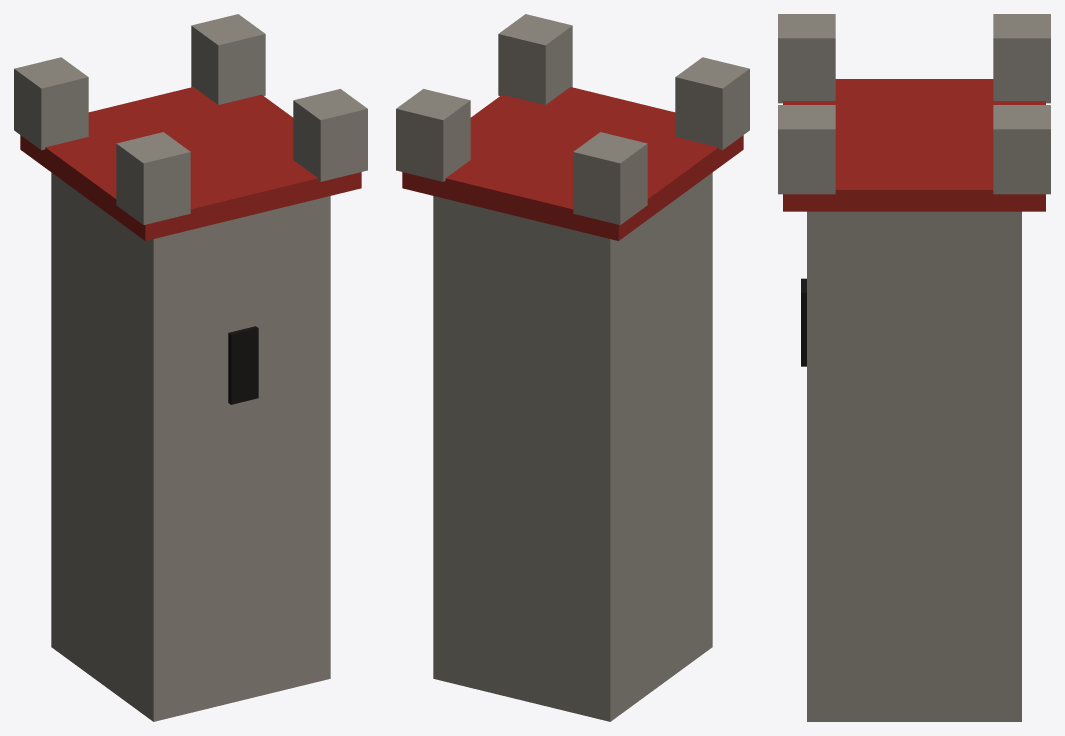
File: dragon_tower.glb
The picture shows the model from 3 angles, left to right: view 1: azimuth 30°, elevation 25°; view 2: azimuth 150°, elevation 25°; view 3: azimuth 270°, elevation 25°; orthographic projection. The views are drawn at different scales.
Visible parts, largest first — view 1: dragon_tower; view 2: dragon_tower; view 3: dragon_tower.
Boxes of the visible parts, x1,y1,x2,y2 form: dragon_tower: (14, 14, 367, 721); dragon_tower: (396, 14, 749, 721); dragon_tower: (778, 14, 1050, 721).
Size of the model in its own units: 1.14 by 2.79 by 1.14.
